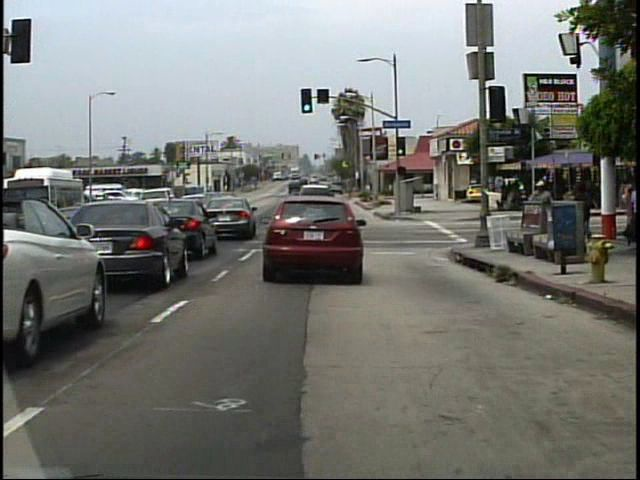person: (527, 177, 555, 247), (572, 178, 591, 246)
